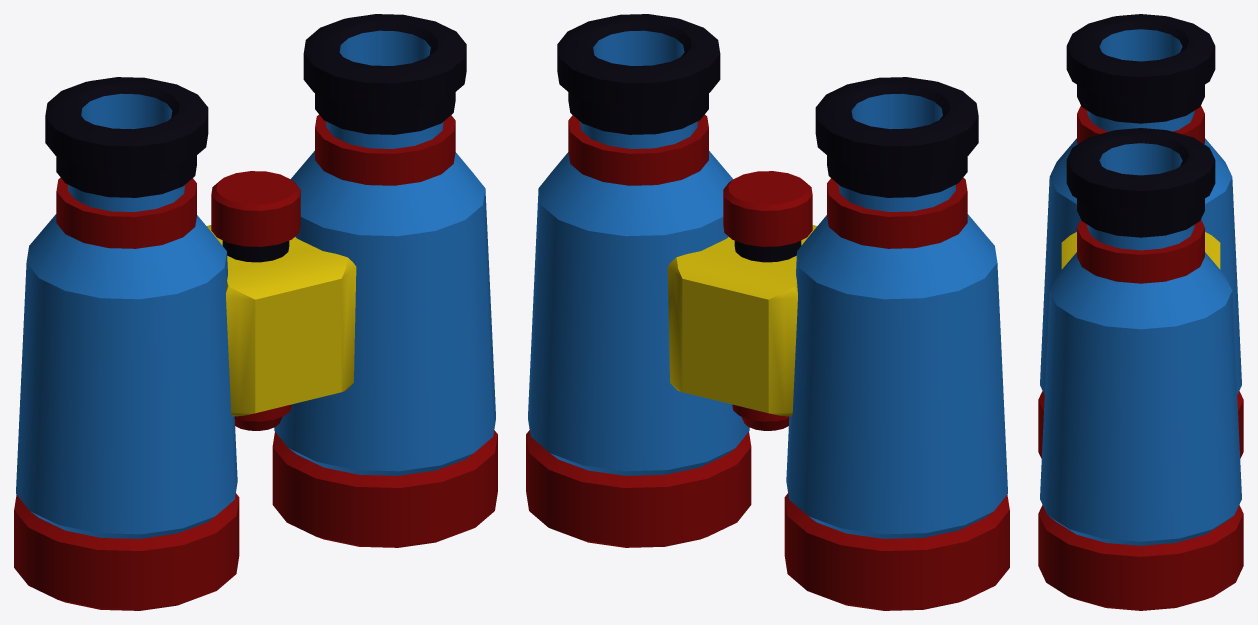
Rendered from Binoculars.FBX.
The picture shows the model from 3 angles, left to right: view 1: azimuth 30°, elevation 25°; view 2: azimuth 150°, elevation 25°; view 3: azimuth 270°, elevation 25°; orthographic projection. The views are drawn at different scales.
Parts seen in each view (by area): view 1: Binoculars; view 2: Binoculars; view 3: Binoculars.
Boxes of the visible parts, x1=… form: Binoculars: x1=14, y1=14, x2=497, y2=610; Binoculars: x1=526, y1=14, x2=1009, y2=610; Binoculars: x1=1038, y1=14, x2=1243, y2=610.
Bounding box in the file's own units: 1037 × 448 × 1006.
